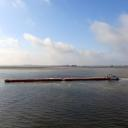tugboat: (105, 74, 121, 83)
